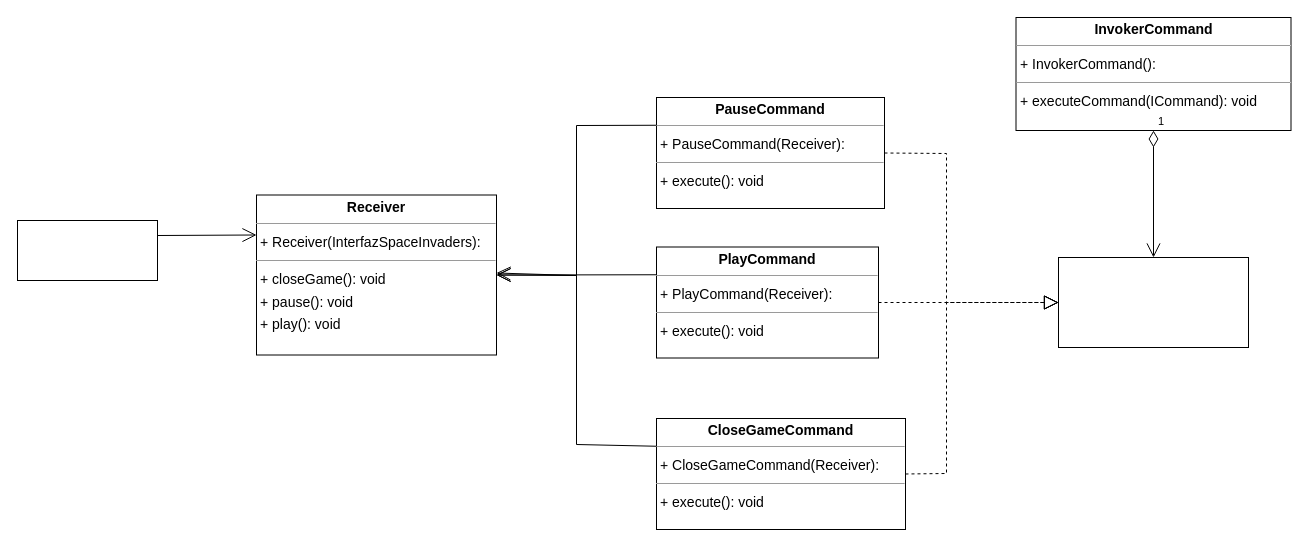
The diagram is 1309 pixels wide and 547 high, and some of its shapes have lost their labels. The shapes that lost their labels are listed below. From the top down, each one's box as (x1, y1, x2, y2) in pixels, then its label:
(16, 220, 158, 280): Teclado
(1058, 256, 1248, 348): <<interface>> ICommand + execute(): void
